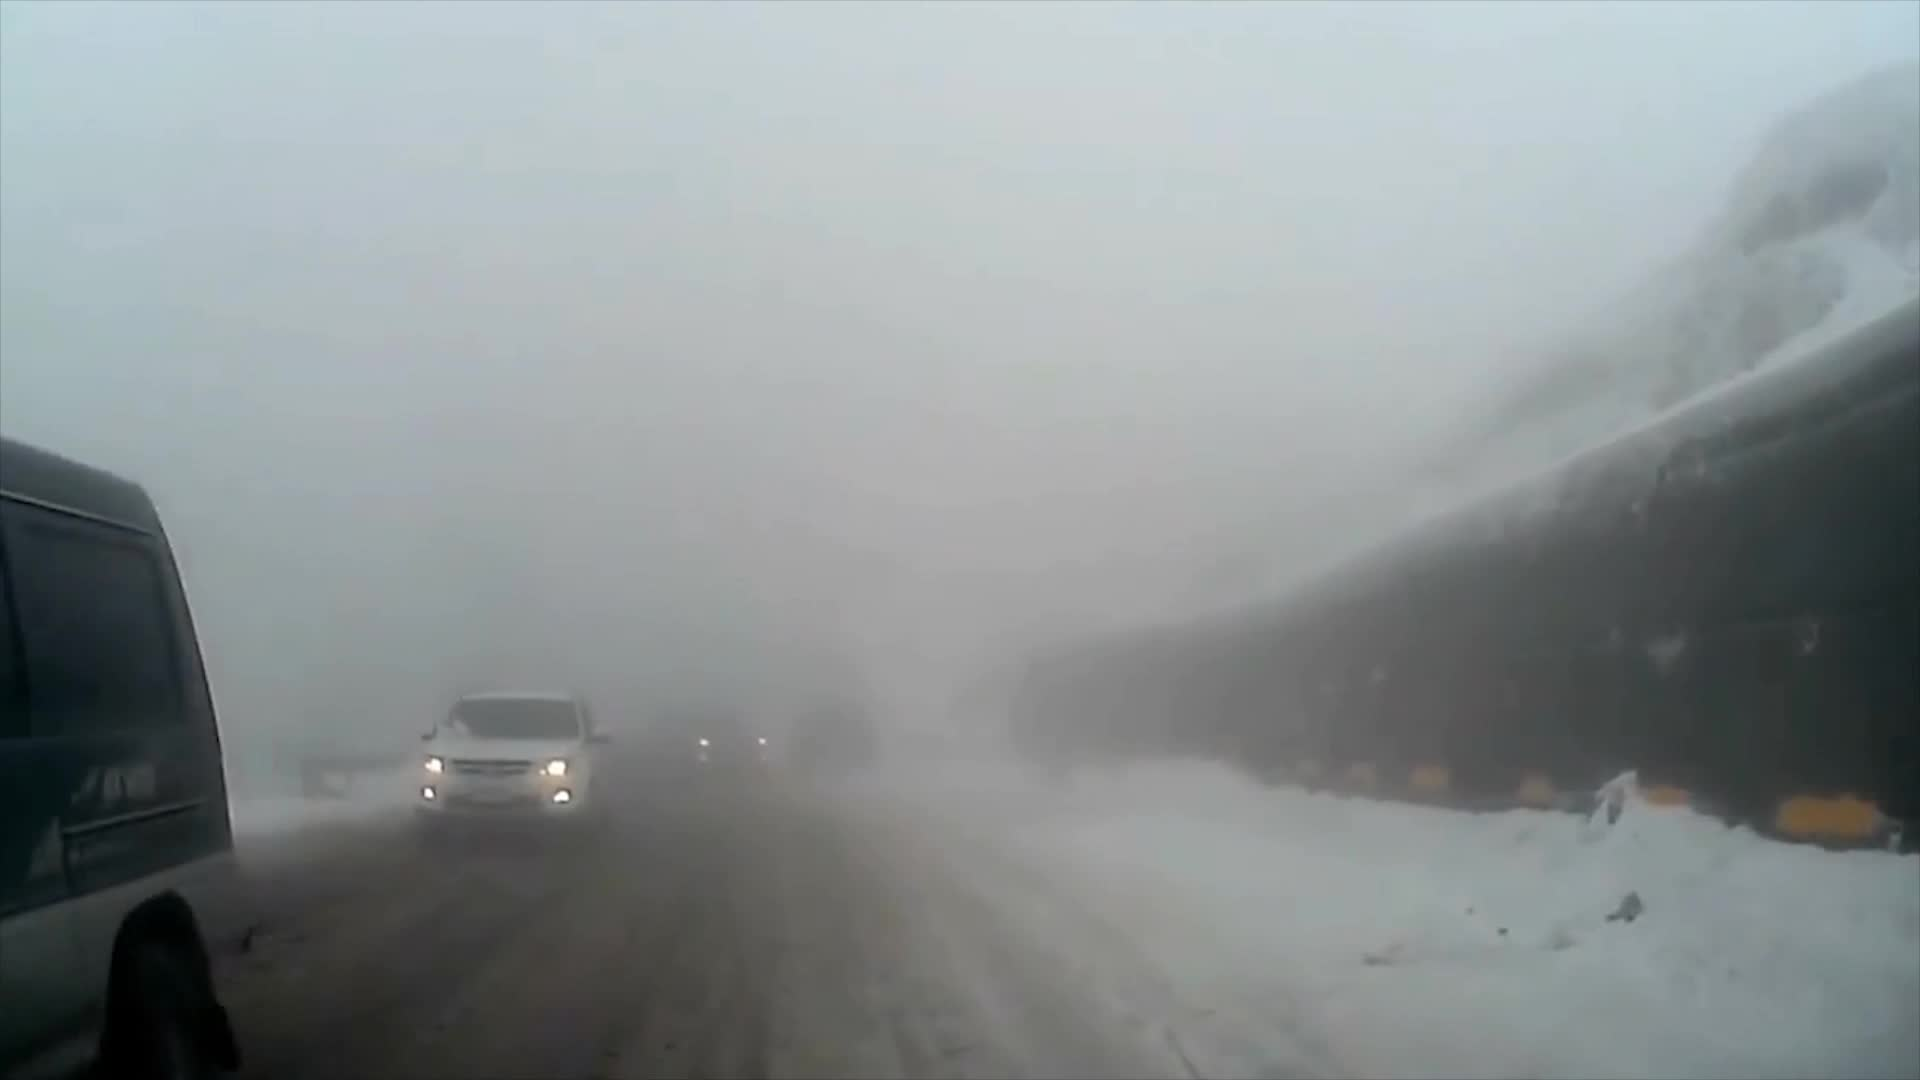vehicle: (0, 433, 243, 1080), (411, 692, 618, 855)
